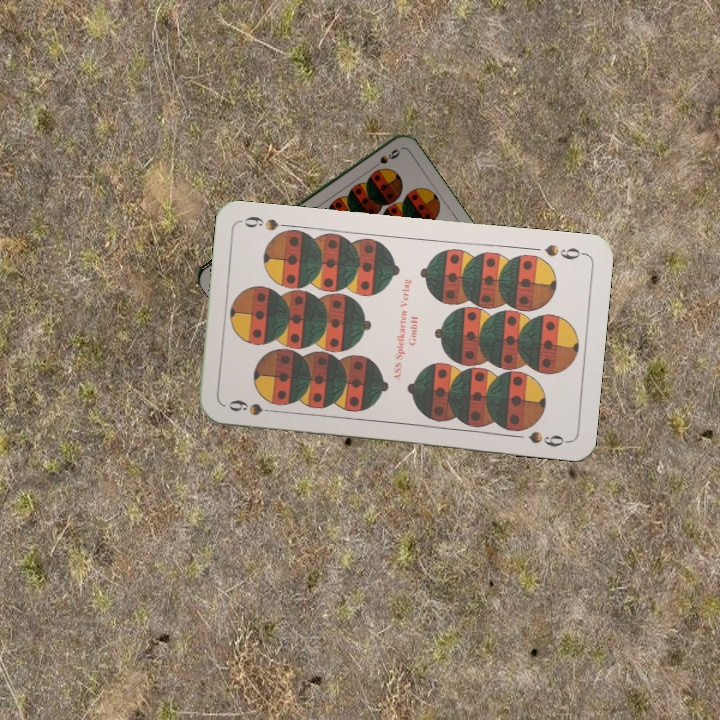S9: (225, 396, 281, 418), (541, 240, 588, 263), (367, 145, 403, 172)
